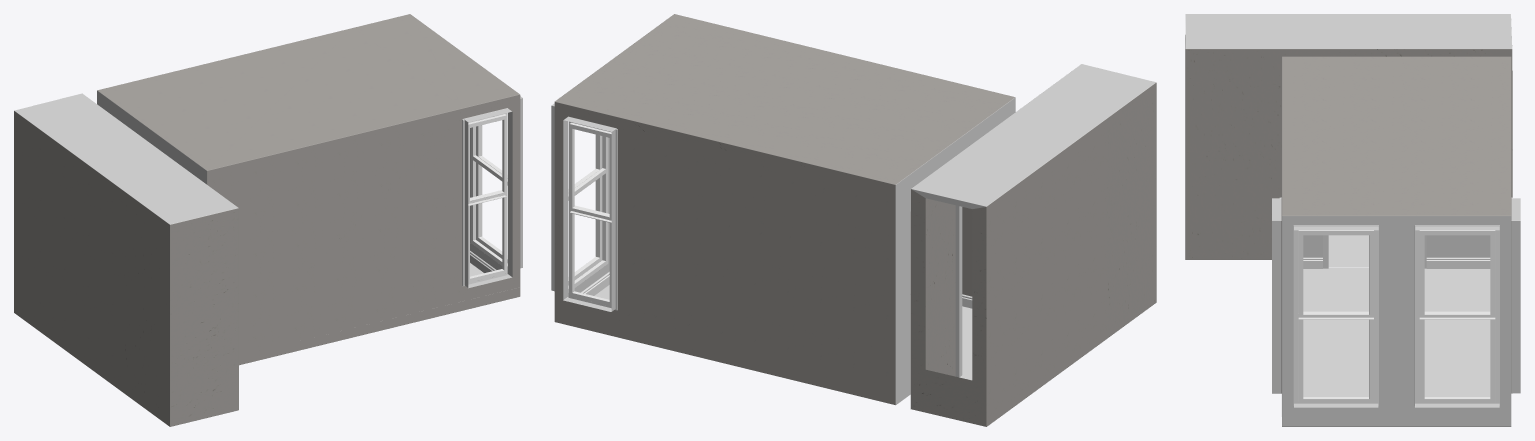
Rendered from casita terror.fbx.
3 views of the same model, side by side, from view 1: azimuth 30°, elevation 25°; view 2: azimuth 150°, elevation 25°; view 3: azimuth 270°, elevation 25° (orthographic). The views are drawn at different scales.
Parts seen in each view (by area): view 1: Main Walls, Window.000, Window.003; view 2: Main Walls, Window.001, Window.002, Cube.001; view 3: Main Walls, Window.003, Window.002, Cube.
Part boxes in pixels (x1,y1,x2,y2): Main Walls: (14, 14, 522, 426); Window.000: (462, 113, 507, 286); Window.003: (470, 125, 507, 269); Main Walls: (551, 14, 1156, 426); Window.001: (568, 121, 617, 310); Window.002: (568, 134, 608, 292); Cube.001: (955, 205, 962, 377); Main Walls: (1185, 14, 1520, 426); Window.003: (1293, 225, 1378, 405); Window.002: (1414, 225, 1499, 405); Cube: (1281, 257, 1490, 416).
Size of the model in its own units: 463 by 222 by 318.
